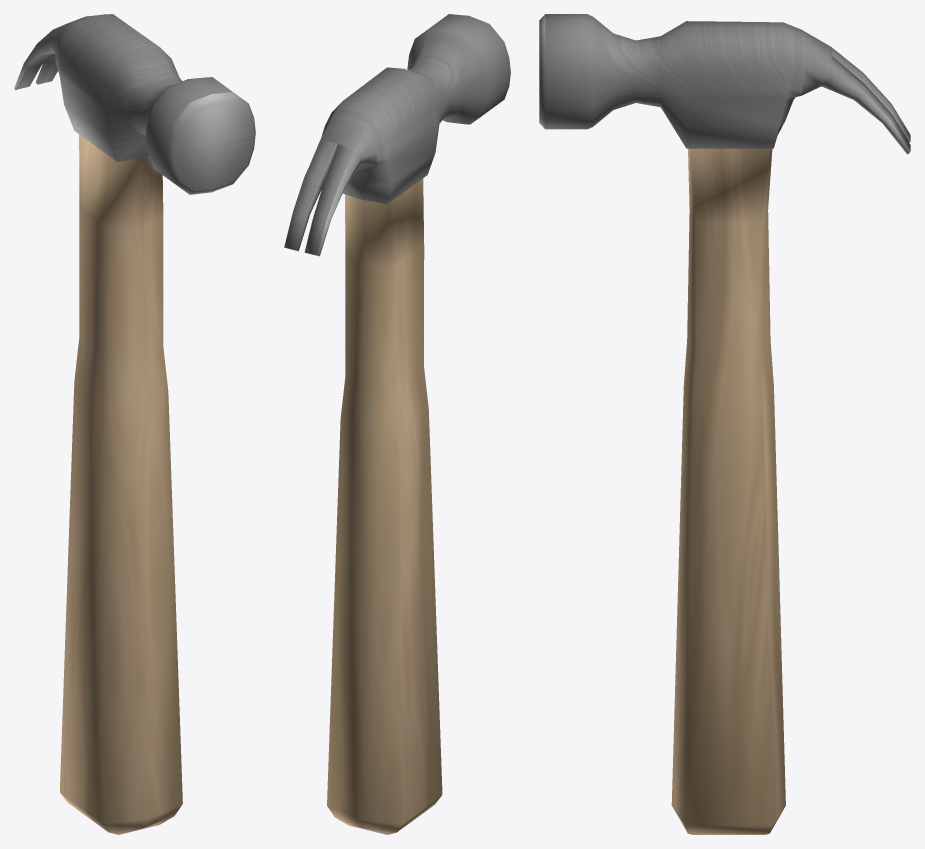
Rendered from 장도리.fbx.
3 renders of one model, left to right at view 1: azimuth 30°, elevation 25°; view 2: azimuth 150°, elevation 25°; view 3: azimuth 270°, elevation 25°, orthographic. The views are drawn at different scales.
Visible parts, largest first — view 1: Hammer; view 2: Hammer; view 3: Hammer.
Part boxes in pixels (bbox=[...]): Hammer: bbox=[14, 14, 255, 834]; Hammer: bbox=[284, 14, 510, 834]; Hammer: bbox=[539, 14, 910, 834].
Size of the model in its own units: 3.56 by 30.23 by 12.67.
